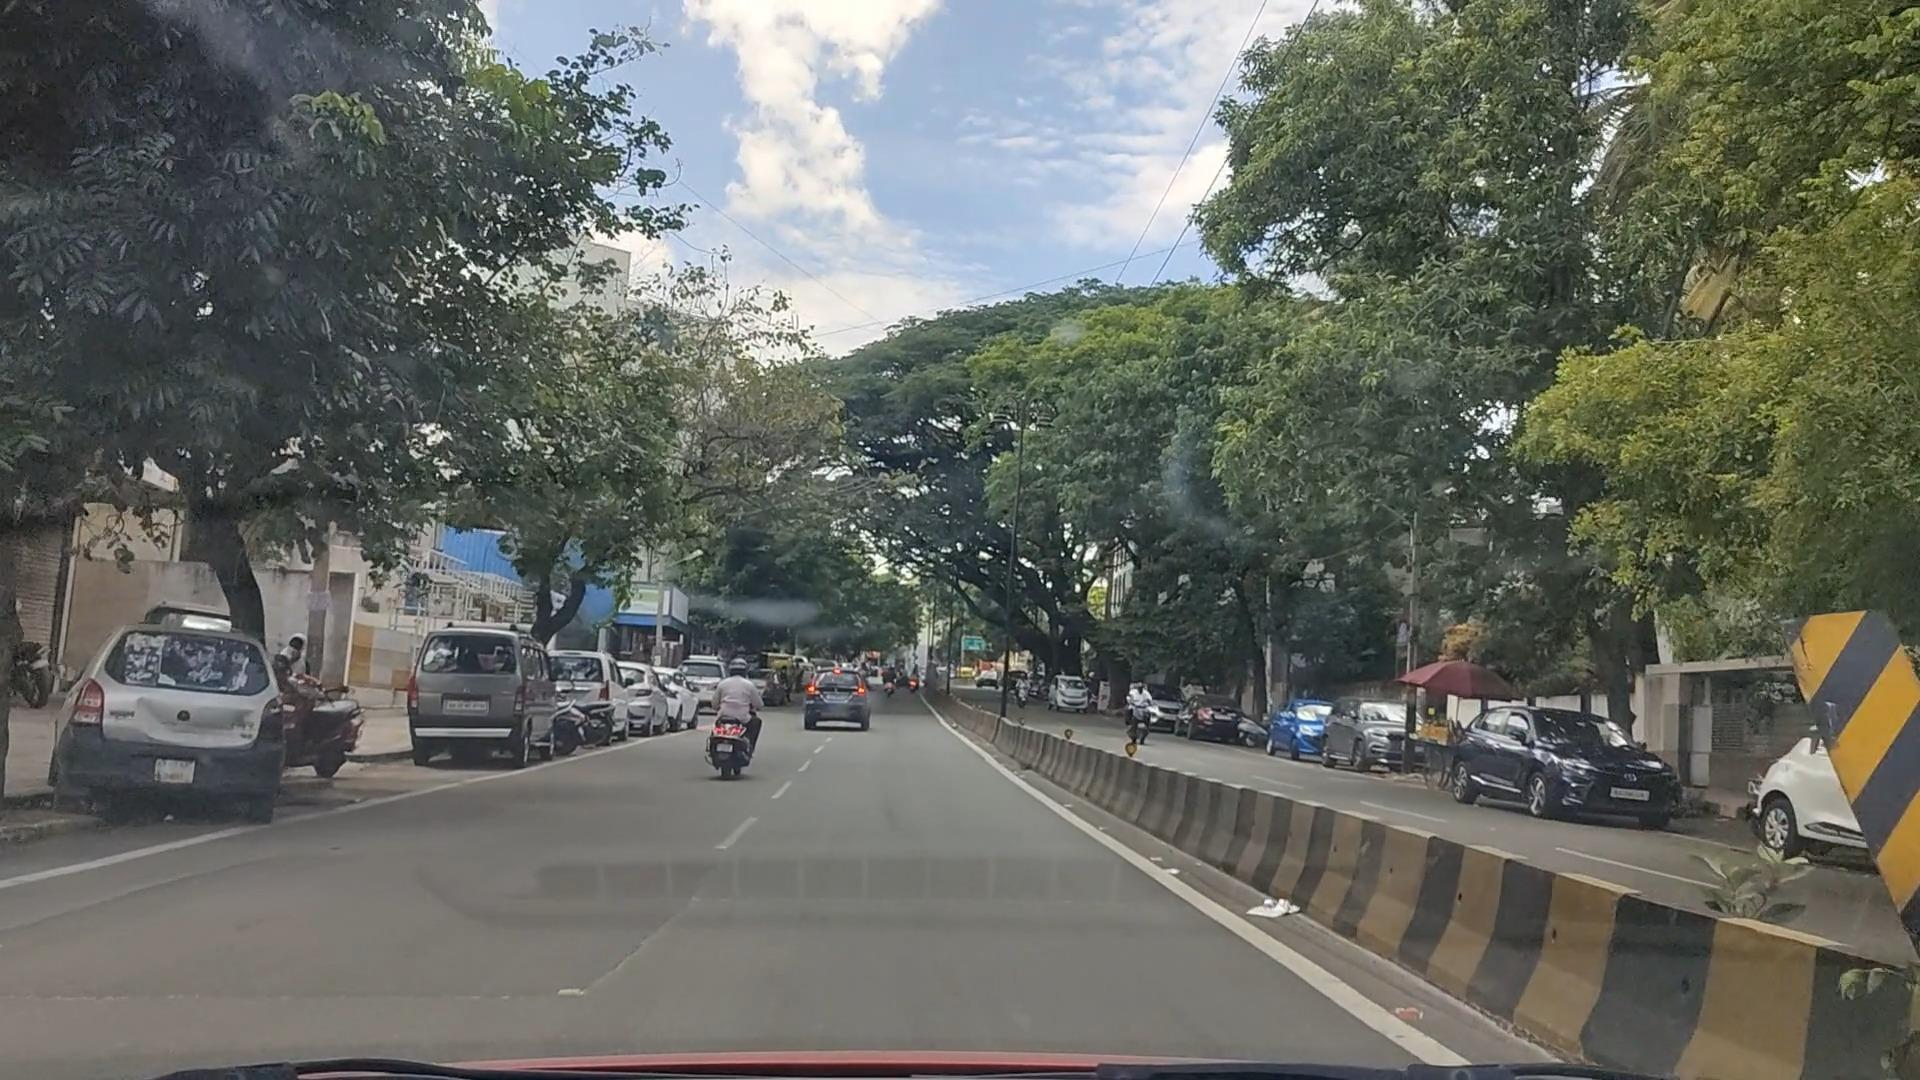LMV: (58, 621, 303, 812), (706, 633, 775, 786)
